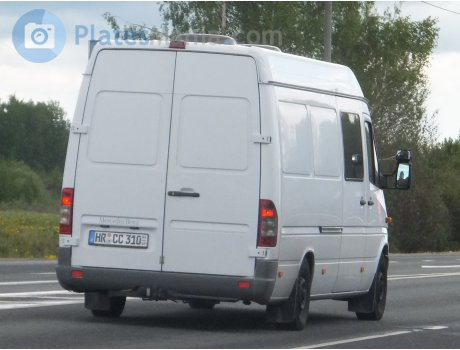License Plates: (93, 229, 144, 242)
